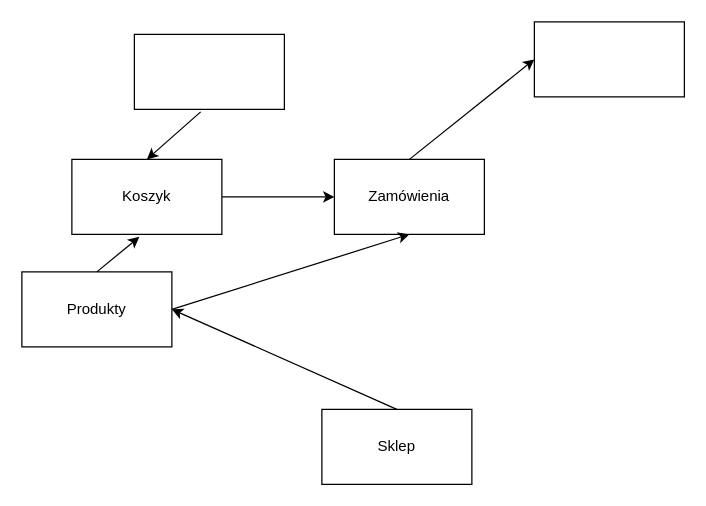
This 706x506 diagram has some shape labels left out. Here are the shapes that lost their labels. From the top down, the centre of each, then its label:
At point (208, 71): "Klient".
At point (608, 59): "Pracownik".
